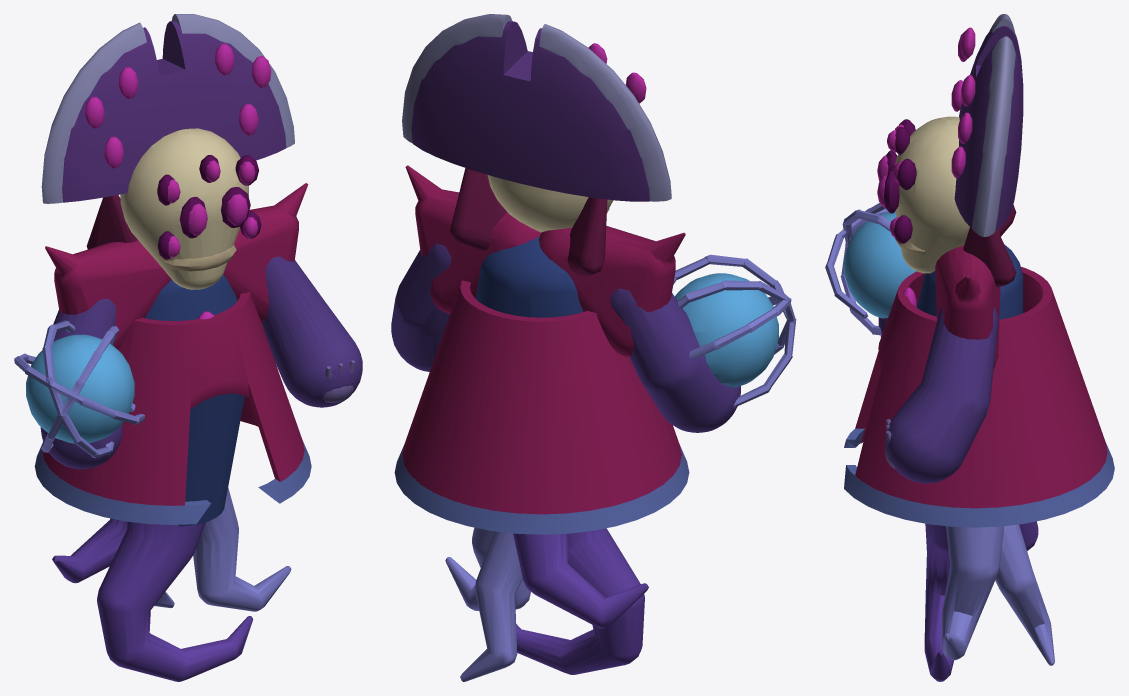
Rendered from archonosis.glb.
The picture shows the model from 3 angles, left to right: view 1: azimuth 30°, elevation 25°; view 2: azimuth 150°, elevation 25°; view 3: azimuth 270°, elevation 25°; orthographic projection. The views are drawn at different scales.
Parts seen in each view (by area): view 1: creature; view 2: creature; view 3: creature.
Boxes of the visible parts, bbox=[...] form: creature: bbox=[14, 14, 362, 681]; creature: bbox=[391, 14, 796, 681]; creature: bbox=[825, 14, 1114, 681].
Size of the model in its own units: 0.5692 by 1 by 0.4096.
